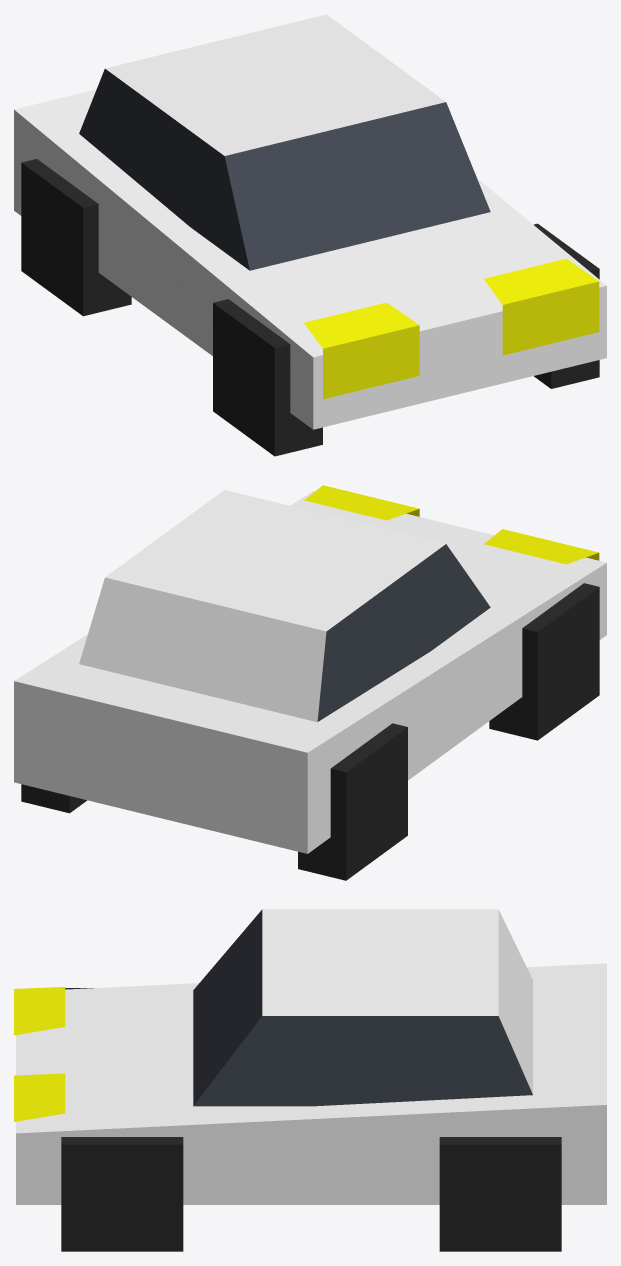
Rendered from carro_torcida.glb.
3 views of the same model, one above another, from view 1: azimuth 30°, elevation 25°; view 2: azimuth 150°, elevation 25°; view 3: azimuth 270°, elevation 25° (orthographic).
Parts seen in each view (by area): view 1: corpo, vidro, pneu, farol; view 2: corpo, pneu, vidro, farol; view 3: corpo, vidro, pneu, farol.
Part boxes in pixels (x1=…): corpo: x1=14, y1=14, x2=606, y2=429; vidro: x1=79, y1=69, x2=490, y2=270; pneu: x1=21, y1=159, x2=599, y2=456; farol: x1=304, y1=258, x2=599, y2=399; corpo: x1=14, y1=490, x2=606, y2=853; pneu: x1=21, y1=583, x2=599, y2=880; vidro: x1=317, y1=544, x2=490, y2=721; farol: x1=304, y1=485, x2=599, y2=564; corpo: x1=16, y1=909, x2=606, y2=1204; vidro: x1=193, y1=909, x2=532, y2=1106; pneu: x1=61, y1=988, x2=561, y2=1251; farol: x1=14, y1=987, x2=65, y2=1121.
Size of the model in its own units: 1.88 by 1.18 by 3.01.
